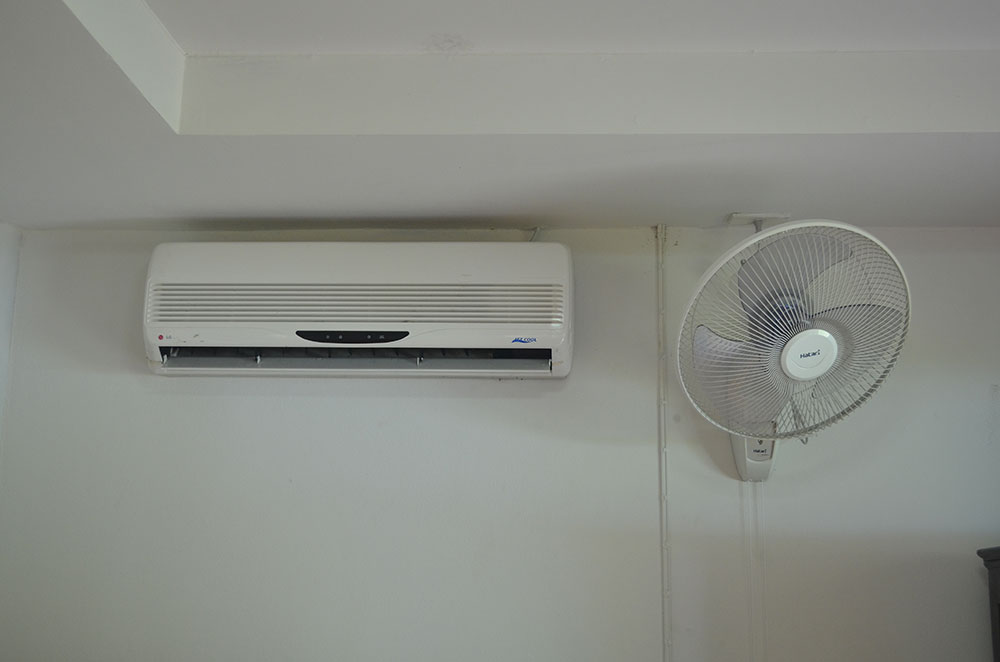AC: (152, 244, 574, 381)
